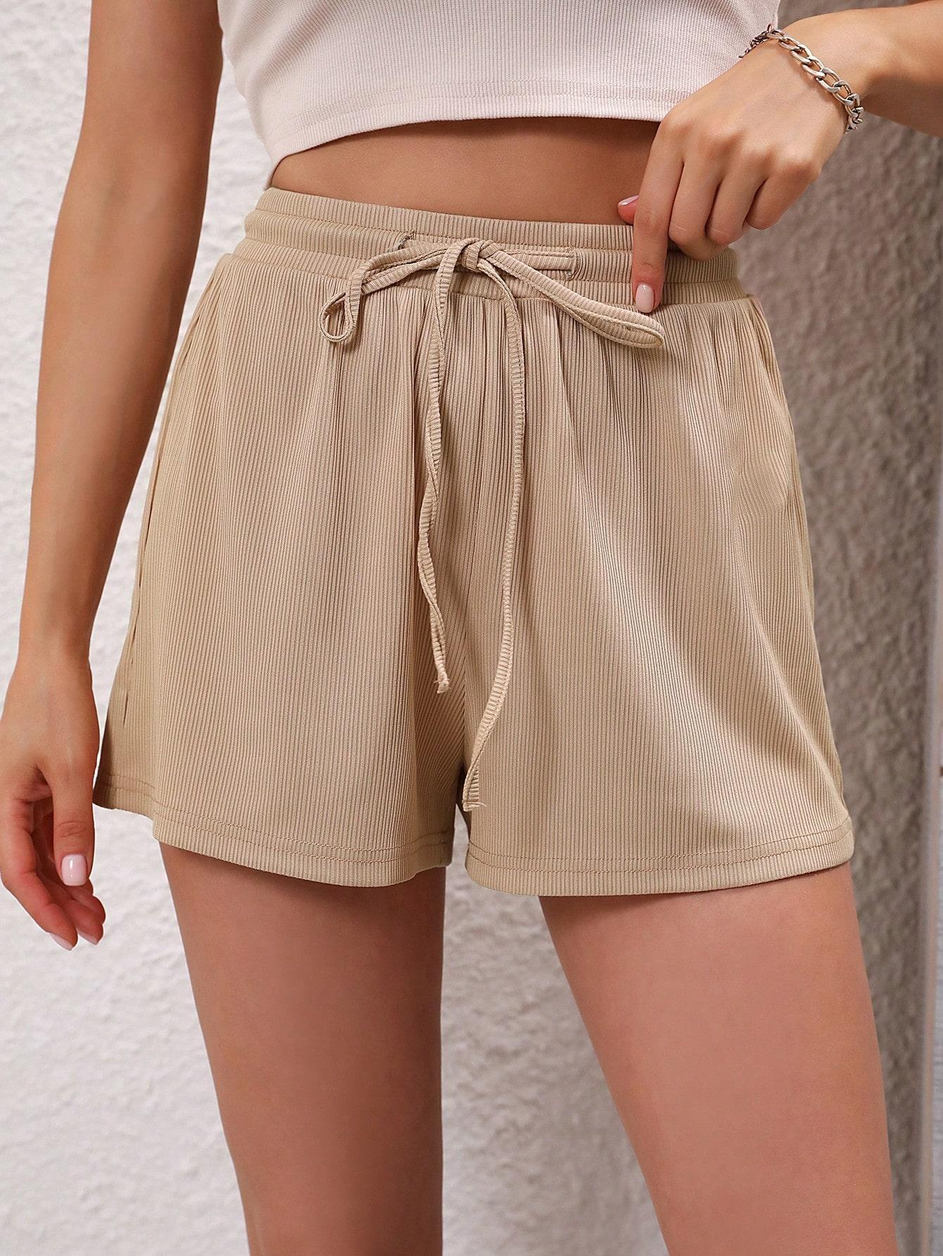Shorts: (83, 183, 876, 904)
short sleeve shirt: (206, 0, 807, 166)
